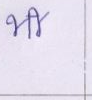i_matra: (30, 7, 43, 36)
